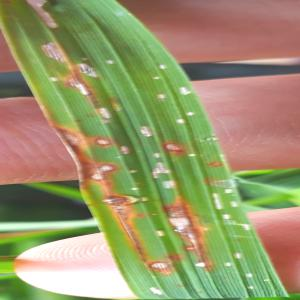1 RiceBlast: (52, 120, 101, 189), (137, 238, 184, 284), (161, 200, 204, 248), (43, 70, 93, 108), (153, 134, 193, 167), (73, 49, 106, 88), (25, 1, 64, 31), (36, 40, 75, 64), (91, 126, 119, 155), (89, 96, 113, 128), (97, 149, 120, 179), (101, 183, 126, 209), (86, 163, 105, 189), (151, 219, 170, 243)
